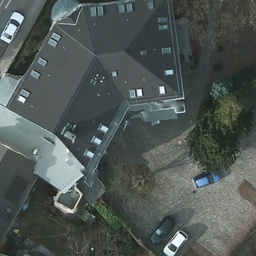car: (1, 10, 24, 45), (149, 215, 174, 245), (164, 229, 188, 256), (192, 168, 221, 190)
